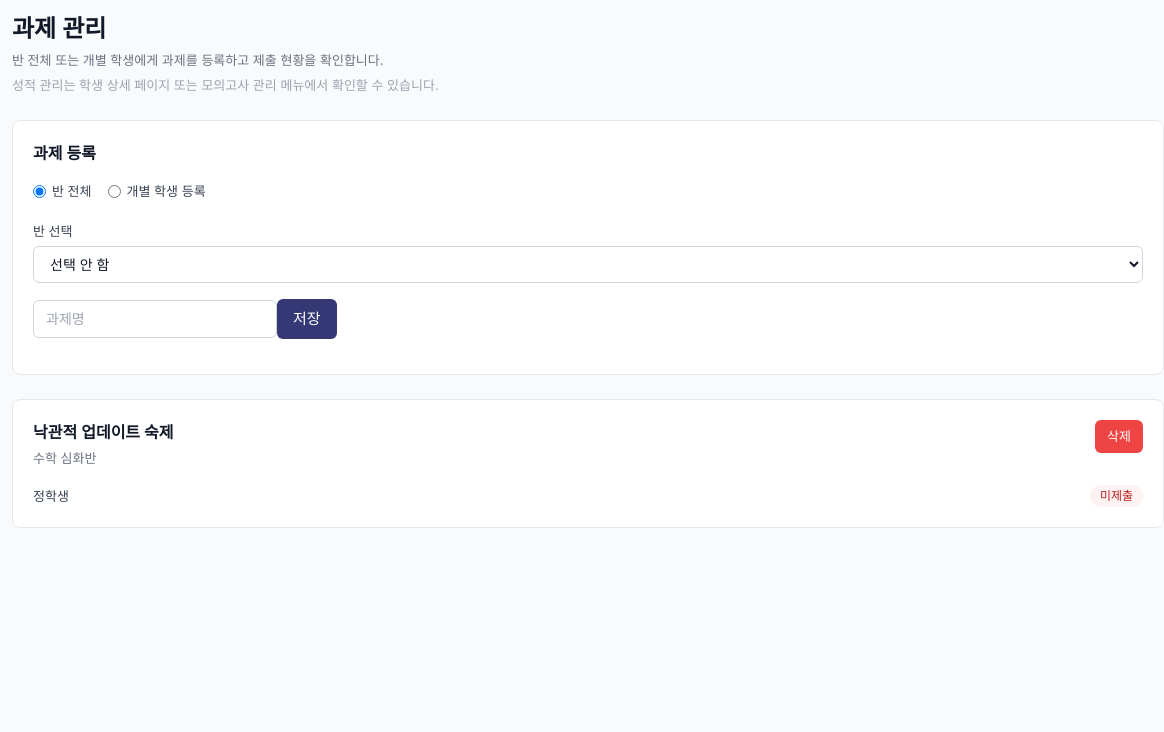
과제 관리 페이지: 제출 상태 배지 클릭 › 클릭 직후(응답이 오기 전) 화면에는 이미 다음 상태가 표시되어야 한다(낙관적 업데이트)
Expected: the heading "낙관적 업데이트 숙제" is shown, [33,420,174,444]
Click the button "미제출" at (1116, 496), box [1090,485,1143,507]
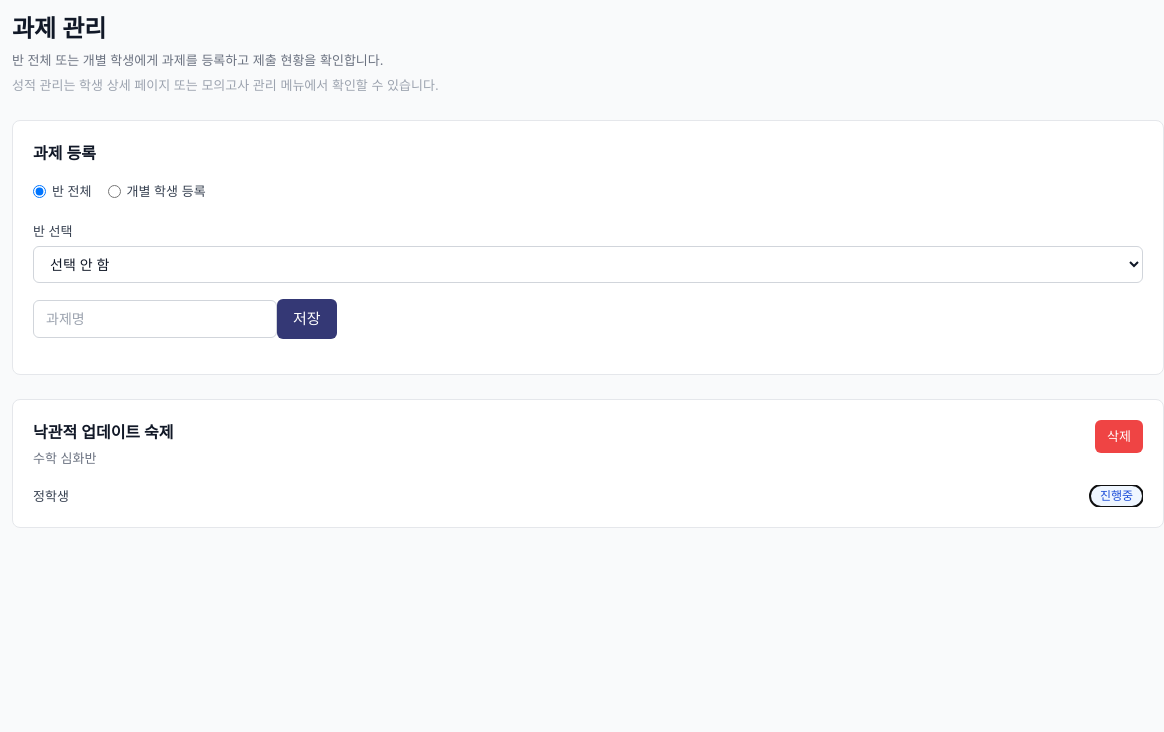
Expected: the button "진행중" is shown, [1090,485,1143,507]
